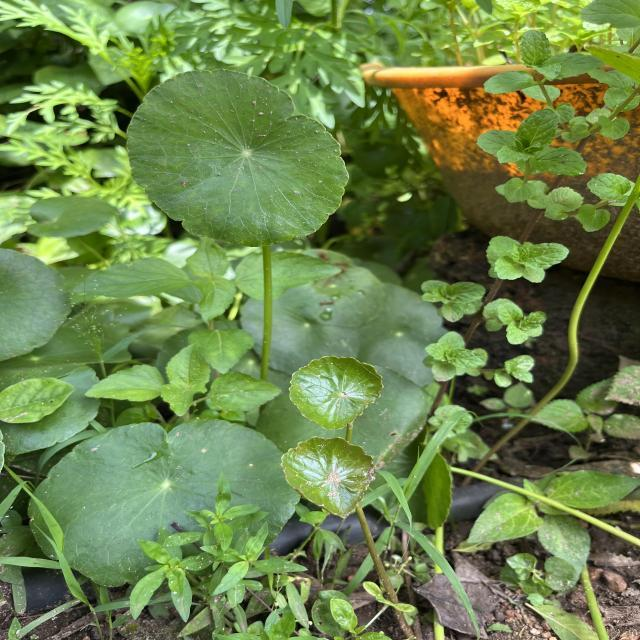Bacopa monnieri: (24, 415, 306, 590), (123, 64, 352, 250), (277, 434, 378, 522), (286, 352, 388, 433)
